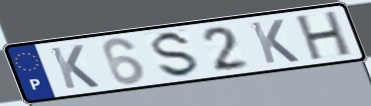2: (201, 25, 254, 75)
6: (99, 36, 151, 86)
H: (295, 9, 355, 63)
K: (247, 17, 302, 65), (47, 43, 102, 91)
S: (150, 29, 203, 80)
